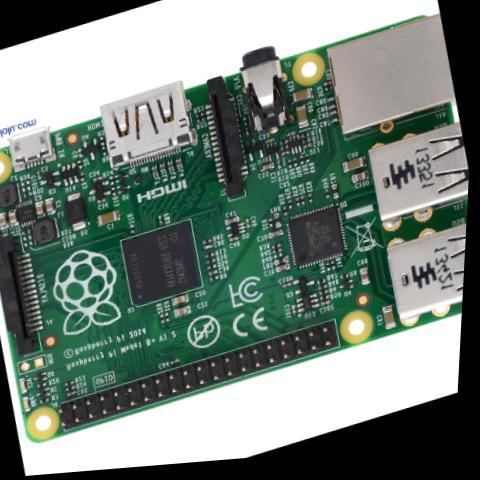Raspberry-Pi-1-Model-B-: (0, 0, 479, 451)
